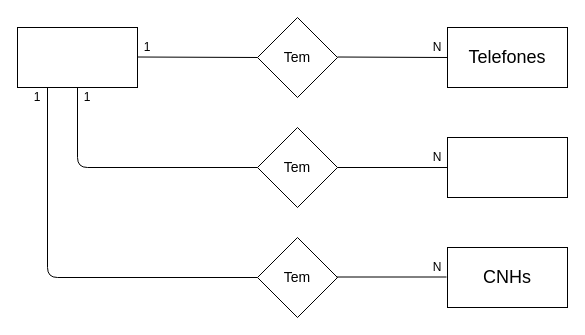
The diagram is 585 pixels wide and 335 high, and some of its shapes have lost their labels. Each missing label, with the centre of its shape:
"Emails" goes at (x=507, y=167).
"Pessoas" goes at (x=77, y=57).
